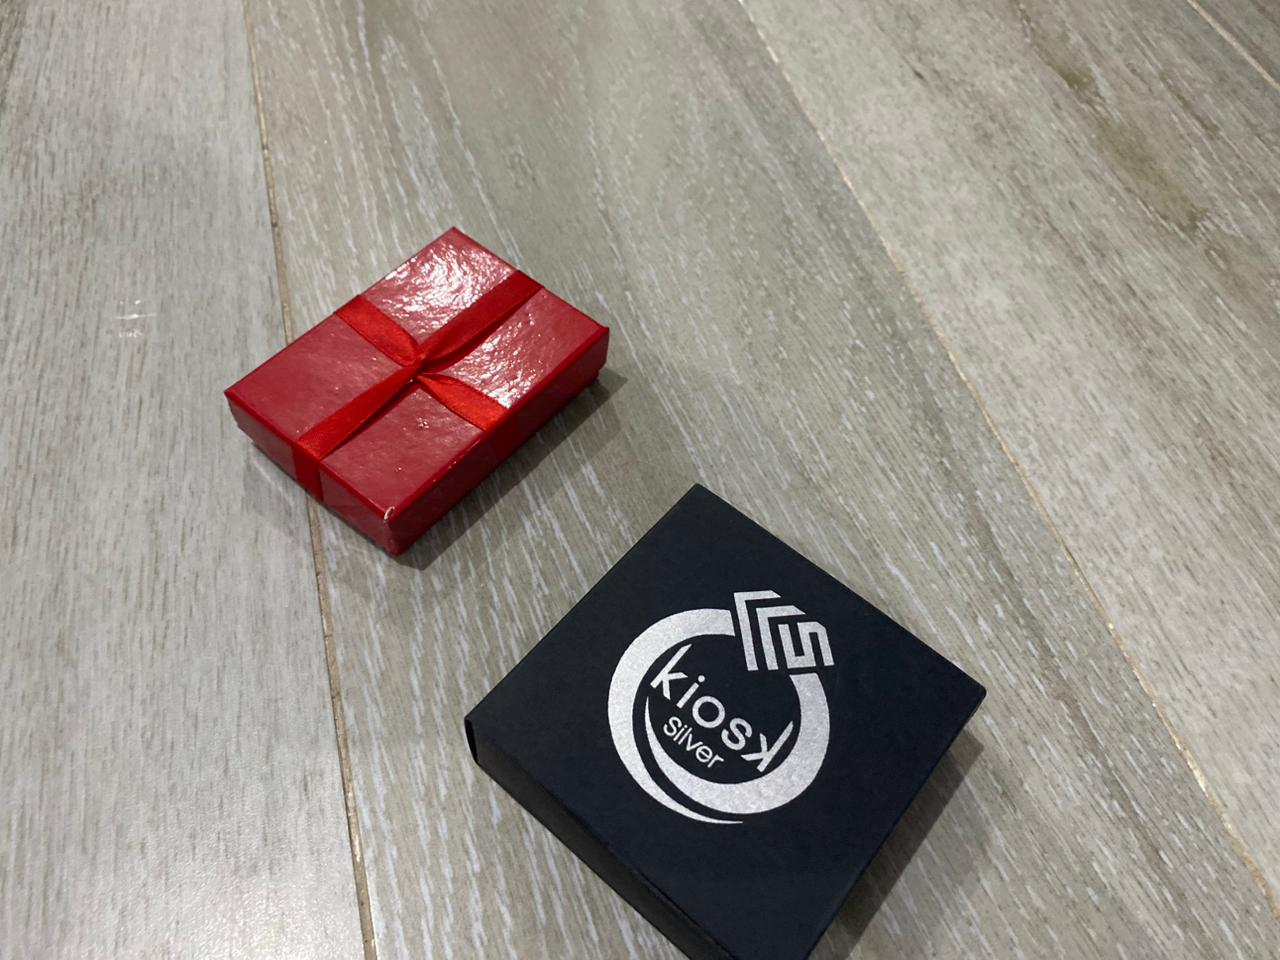Black Box: (219, 225, 615, 564)
Red Box: (459, 480, 989, 960)
